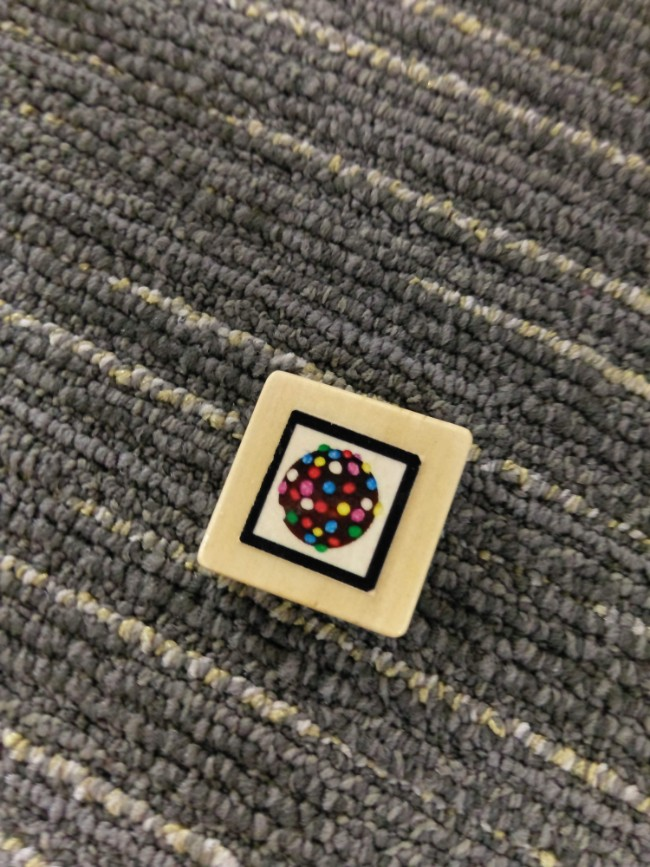cookie: (249, 422, 408, 579)
